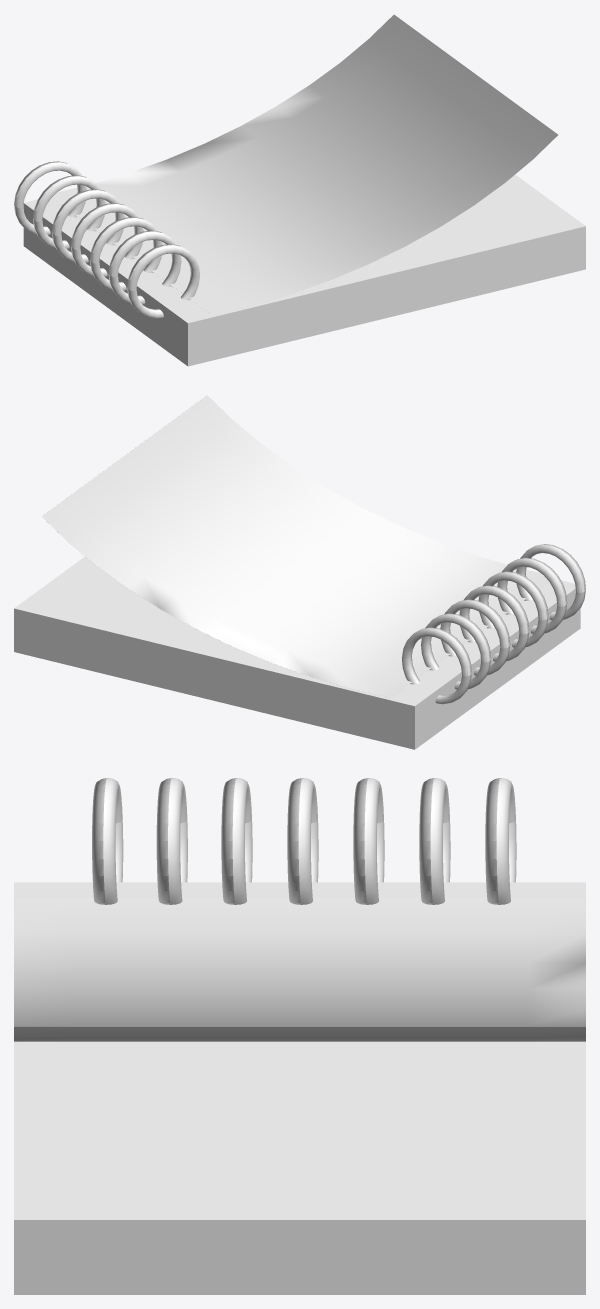
Rendered from Notepad2.obj.
3 views of the same model, one above another, from view 1: azimuth 30°, elevation 25°; view 2: azimuth 150°, elevation 25°; view 3: azimuth 270°, elevation 25° (orthographic). The views are drawn at different scales.
Visible parts, largest first — view 1: ChamferBo0, ChamferBox, Torus007, Torus006, Torus004, Torus005, Torus001, Torus002, Torus003; view 2: ChamferBo0, ChamferBox, Torus001, Torus002, Torus007, Torus006, Torus005, Torus004, Torus003; view 3: ChamferBox, ChamferBo0, Torus002, Torus003, Torus004, Torus005, Torus001, Torus006, Torus007.
Part boxes in pixels (box(x1,y1,x2,y2)): ChamferBo0: box(52, 14, 558, 314); ChamferBox: box(23, 174, 585, 366); Torus007: box(127, 244, 199, 318); Torus006: box(108, 230, 181, 304); Torus004: box(71, 203, 143, 276); Torus005: box(90, 217, 162, 290); Torus001: box(14, 161, 86, 235); Torus002: box(33, 175, 105, 249); Torus003: box(52, 189, 124, 262); ChamferBo0: box(42, 395, 549, 697); ChamferBox: box(14, 556, 580, 749); Torus001: box(402, 627, 471, 704); Torus002: box(421, 613, 490, 689); Torus007: box(516, 544, 585, 620); Torus006: box(497, 557, 567, 633); Torus005: box(478, 571, 548, 647); Torus004: box(459, 585, 529, 661); Torus003: box(440, 599, 510, 675); ChamferBox: box(14, 882, 585, 1294); ChamferBo0: box(14, 898, 585, 1041); Torus002: box(419, 778, 450, 904); Torus003: box(353, 778, 384, 904); Torus004: box(287, 778, 318, 904); Torus005: box(221, 778, 252, 904); Torus001: box(485, 778, 516, 904); Torus006: box(156, 778, 187, 904); Torus007: box(92, 778, 123, 904).
Size of the model in its own units: 60.95 by 19.14 by 40.41.
Materials: 3 (3 with a texture image).
